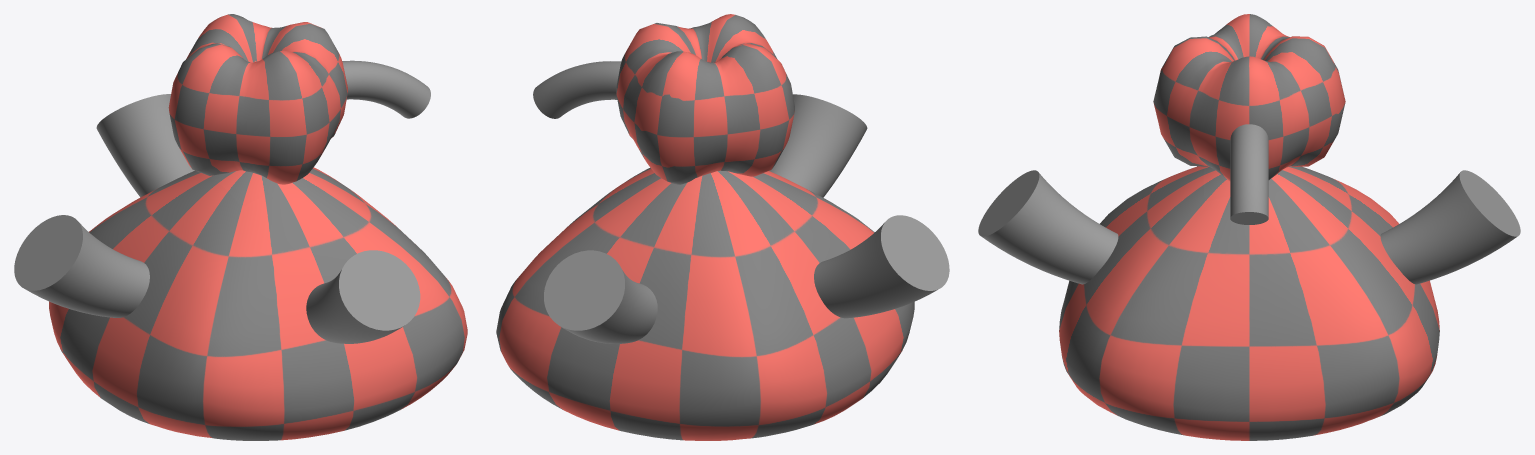
3 renders of one model, left to right at view 1: azimuth 30°, elevation 25°; view 2: azimuth 150°, elevation 25°; view 3: azimuth 270°, elevation 25°, orthographic.
Visible parts, largest first — view 1: Box001, Box002, Cone004, Cone002, Cone003, Cone001; view 2: Box001, Box002, Cone004, Cone003, Cone002, Cone001; view 3: Box001, Box002, Cone002, Cone003, Cone001.
Boxes of the visible parts, bbox=[...] form: Box001: bbox=[49, 167, 467, 440]; Box002: bbox=[168, 14, 347, 184]; Cone004: bbox=[14, 215, 149, 317]; Cone002: bbox=[306, 250, 420, 343]; Cone003: bbox=[96, 94, 194, 197]; Cone001: bbox=[342, 60, 430, 118]; Box001: bbox=[496, 167, 914, 440]; Box002: bbox=[616, 14, 794, 184]; Cone004: bbox=[814, 215, 949, 318]; Cone003: bbox=[544, 250, 657, 343]; Cone002: bbox=[769, 94, 867, 197]; Cone001: bbox=[533, 61, 621, 118]; Box001: bbox=[1059, 166, 1439, 440]; Box002: bbox=[1153, 14, 1345, 181]; Cone002: bbox=[978, 170, 1118, 284]; Cone003: bbox=[1380, 170, 1520, 284]; Cone001: bbox=[1230, 124, 1268, 224].
Bounding box in the file's own units: 48.37 × 40.24 × 56.4.
Materials: 2 (1 with a texture image).
